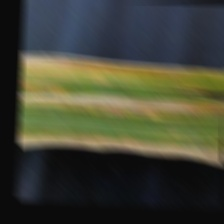Leaf_Blast: (21, 60, 224, 155)
